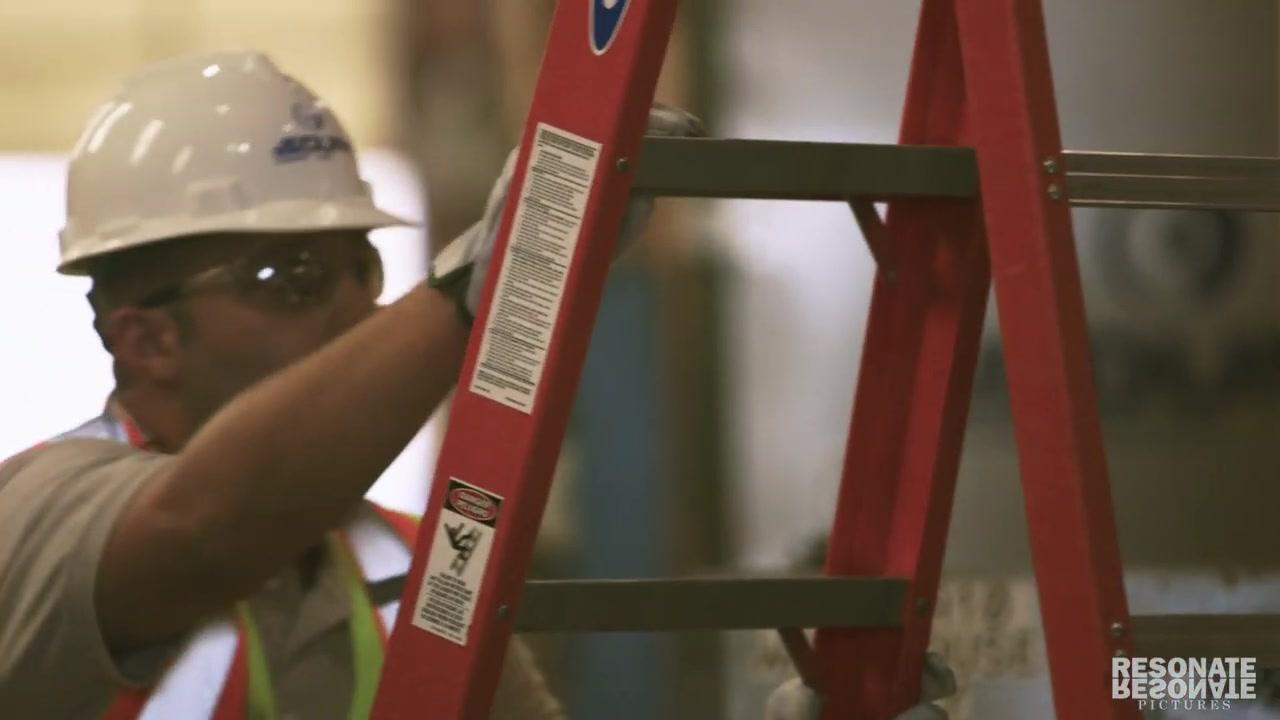vest: (0, 398, 423, 717)
